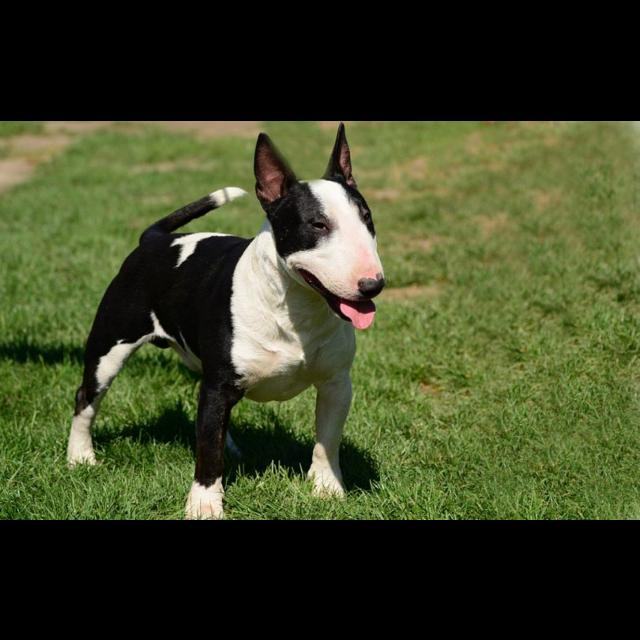bullterrier: (67, 123, 388, 520)
